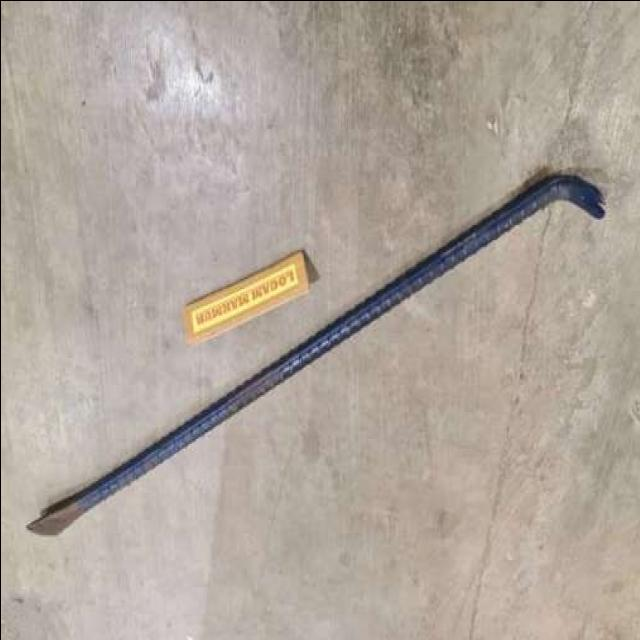Linggis: (26, 178, 604, 539)
